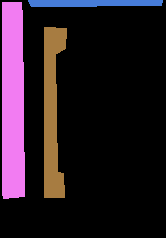parkingspot: (2, 2, 24, 198), (44, 27, 66, 197), (28, 0, 162, 6)
